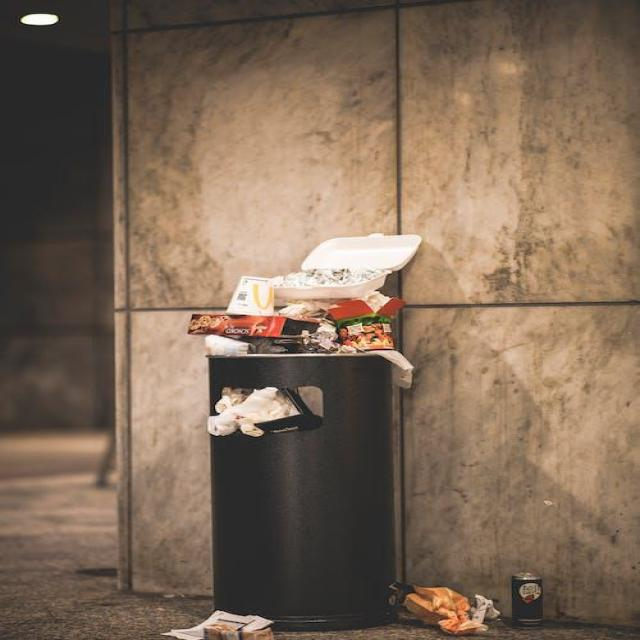metal: (496, 567, 556, 624)
paper: (389, 572, 495, 630), (169, 606, 284, 639)
plastic: (202, 391, 288, 436)
trash: (194, 253, 418, 349)
